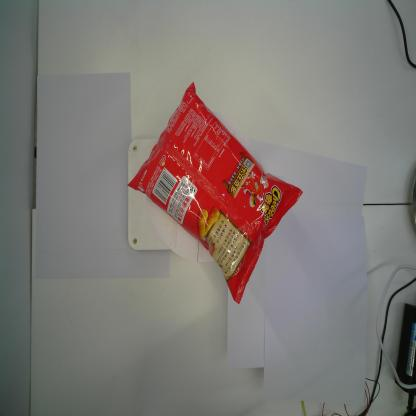Puffed Food: (127, 80, 304, 306)
